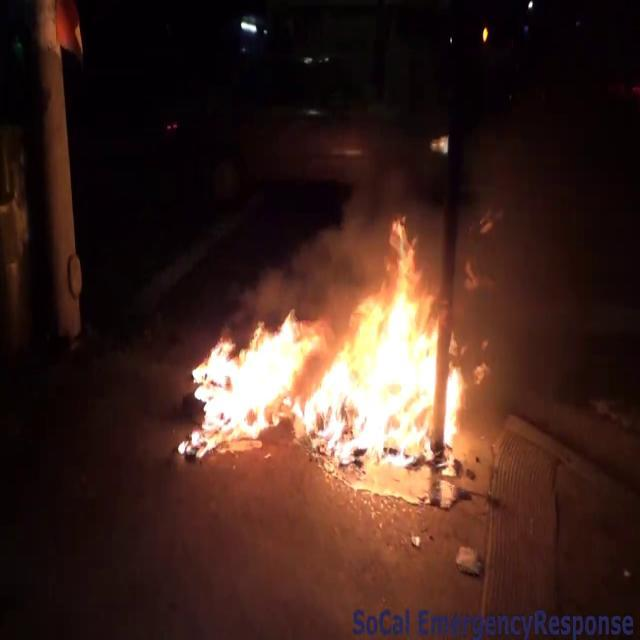Fire: (176, 214, 474, 467)
